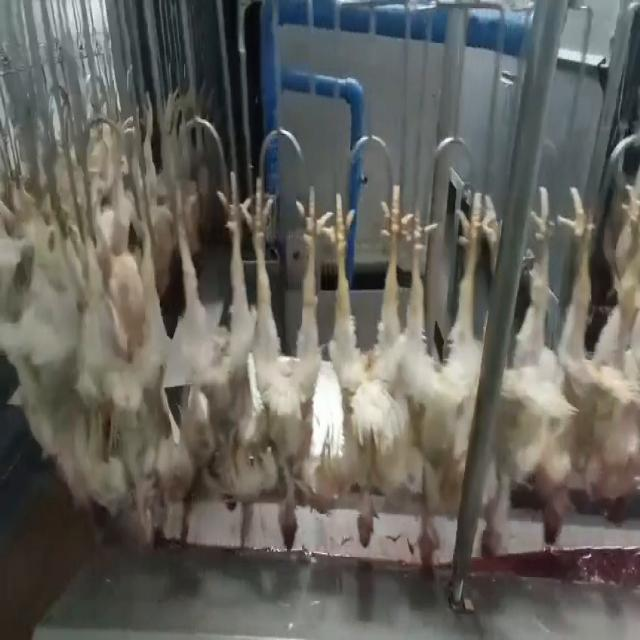chicken: (388, 191, 483, 582), (245, 176, 332, 554), (498, 177, 585, 547), (325, 166, 404, 552), (92, 201, 176, 546), (174, 166, 247, 517), (577, 183, 640, 528)
